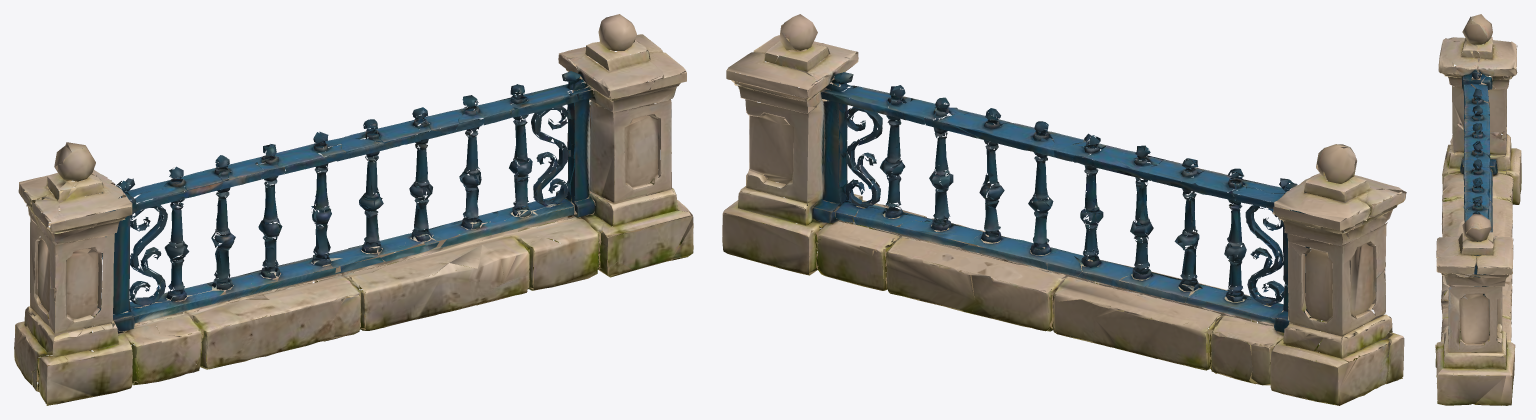
Rendered from base_basic_pbr.glb.
3 renders of one model, left to right at view 1: azimuth 30°, elevation 25°; view 2: azimuth 150°, elevation 25°; view 3: azimuth 270°, elevation 25°, orthographic. The views are drawn at different scales.
Visible parts, largest first — view 1: model; view 2: model; view 3: model.
Part boxes in pixels (x1,y1,x2,y2): model: [14, 14, 693, 405]; model: [722, 14, 1406, 405]; model: [1435, 14, 1521, 405].
Bounding box in the file's own units: 1.9 × 0.6838 × 0.2994.
Materials: 1 (1 with a texture image).
